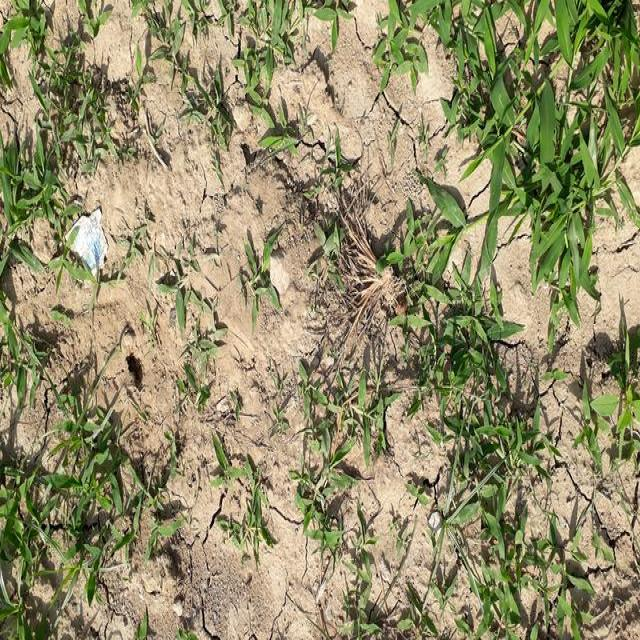weed: (377, 9, 640, 302), (427, 315, 591, 640), (0, 332, 141, 640), (0, 0, 69, 301)
